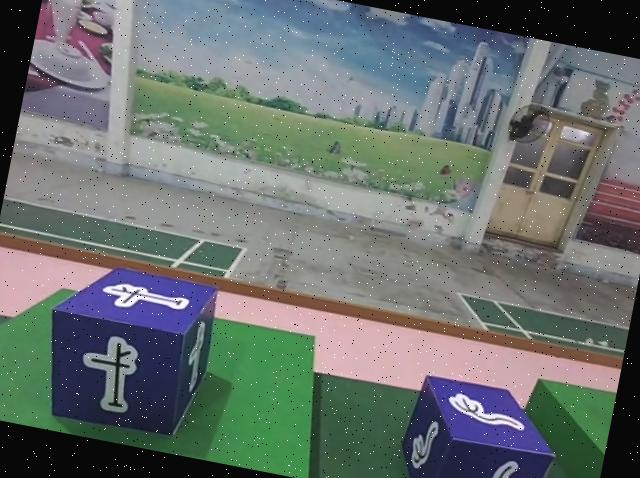R2 Real Blue: (33, 257, 221, 448), (391, 369, 565, 478)
